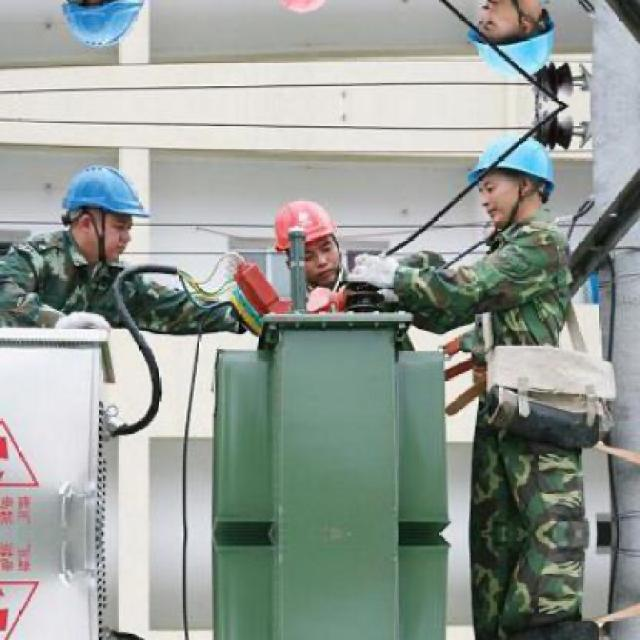helmet: (457, 124, 563, 230), (52, 157, 148, 268), (457, 0, 565, 86), (268, 194, 344, 281), (51, 0, 148, 54)
